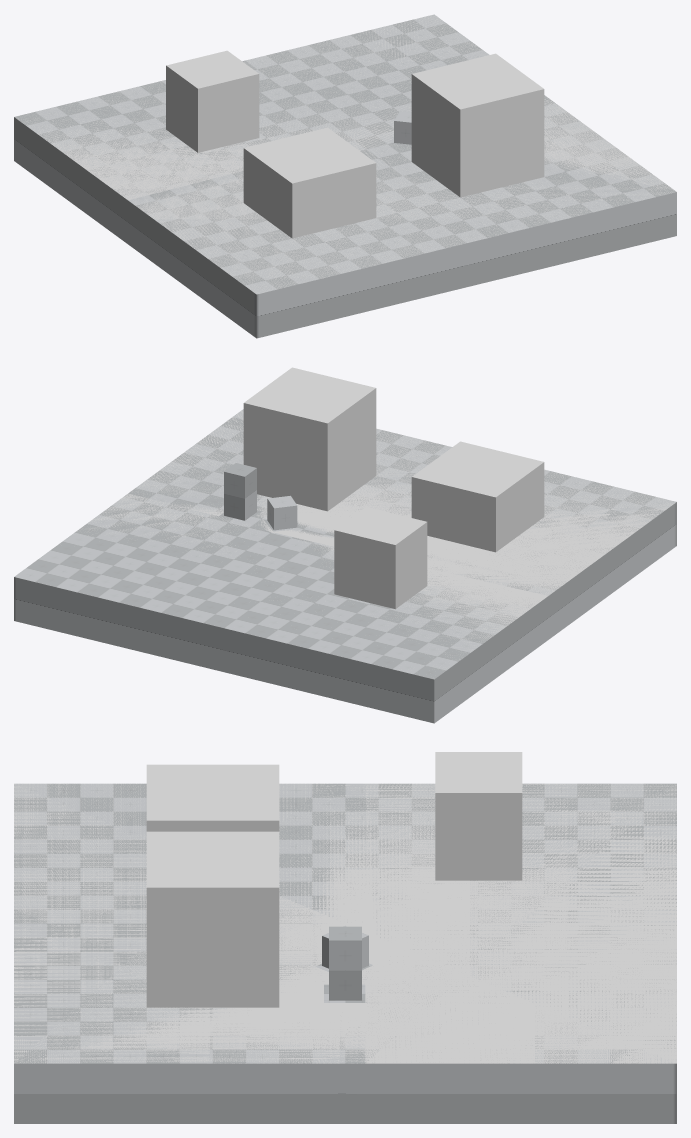
File: test_rooms.012.glb
The picture shows the model from 3 angles, top to bottom: view 1: azimuth 30°, elevation 25°; view 2: azimuth 150°, elevation 25°; view 3: azimuth 270°, elevation 25°; orthographic projection. The views are drawn at different scales.
Visible parts, largest first — view 1: floor, walk_area, interactable.002, interactable.001, interactable.003.cleaner_dialog, cube small; view 2: floor, walk_area, interactable.002, interactable.001, interactable.003.cleaner_dialog, cube tall, cube small; view 3: walk_area, floor, interactable.002, interactable.003.cleaner_dialog, interactable.001, cube tall.
Boxes of the visible parts, x1,y1,x2,y2 form: floor: [14, 14, 676, 338]; walk_area: [16, 15, 676, 294]; interactable.002: [411, 53, 544, 197]; interactable.001: [243, 127, 376, 238]; interactable.003.cleaner_dialog: [166, 50, 259, 152]; cube small: [394, 111, 411, 144]; floor: [14, 409, 676, 723]; walk_area: [73, 410, 674, 669]; interactable.002: [243, 367, 376, 511]; interactable.001: [411, 441, 544, 552]; interactable.003.cleaner_dialog: [334, 507, 427, 609]; cube tall: [224, 463, 256, 520]; cube small: [267, 495, 297, 530]; walk_area: [14, 783, 676, 1063]; floor: [14, 783, 676, 1123]; interactable.002: [146, 831, 279, 1007]; interactable.003.cleaner_dialog: [435, 752, 522, 880]; interactable.001: [146, 764, 279, 831]; cube tall: [329, 926, 361, 1000].
Size of the model in its own units: 20 by 6 by 20.
1 material, 1 textured.
